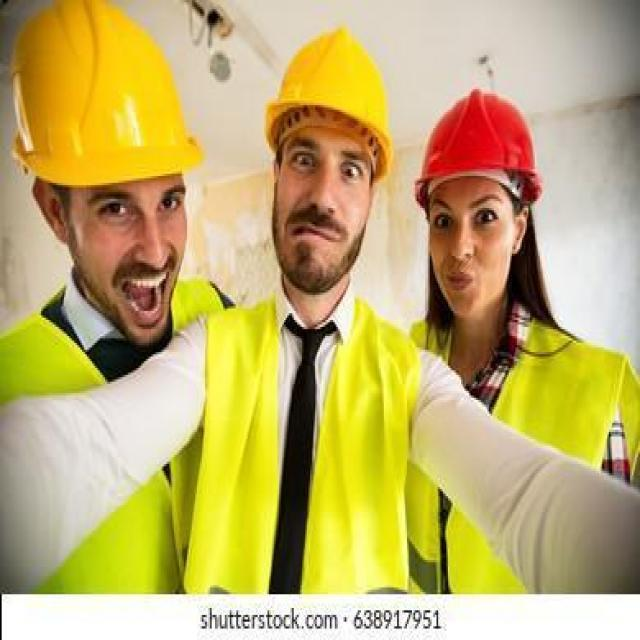hat: (9, 0, 206, 185), (264, 25, 394, 178), (413, 89, 545, 206)
